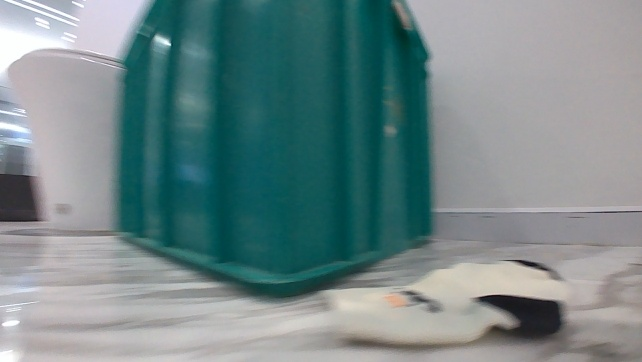socks: (317, 251, 570, 347)
toilet: (7, 42, 130, 235)
